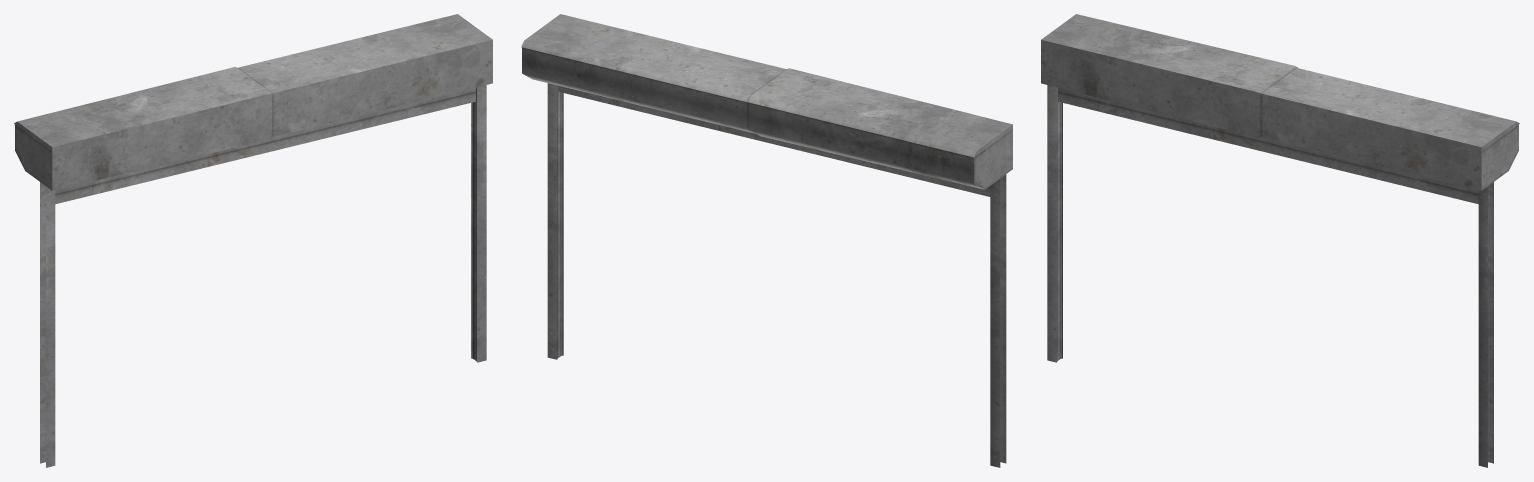
Rendered from RollupDoor_Open.fbx.
3 views of the same model, side by side, from view 1: azimuth 30°, elevation 25°; view 2: azimuth 150°, elevation 25°; view 3: azimuth 330°, elevation 25° (orthographic). The views are drawn at different scales.
Visible parts, largest first — view 1: RollupDoor_Open; view 2: RollupDoor_Open; view 3: RollupDoor_Open.
Part boxes in pixels (bbox=[...]): RollupDoor_Open: bbox=[14, 14, 492, 467]; RollupDoor_Open: bbox=[521, 14, 1012, 467]; RollupDoor_Open: bbox=[1041, 14, 1519, 467].
Size of the model in its own units: 450 by 319 by 70.15.
